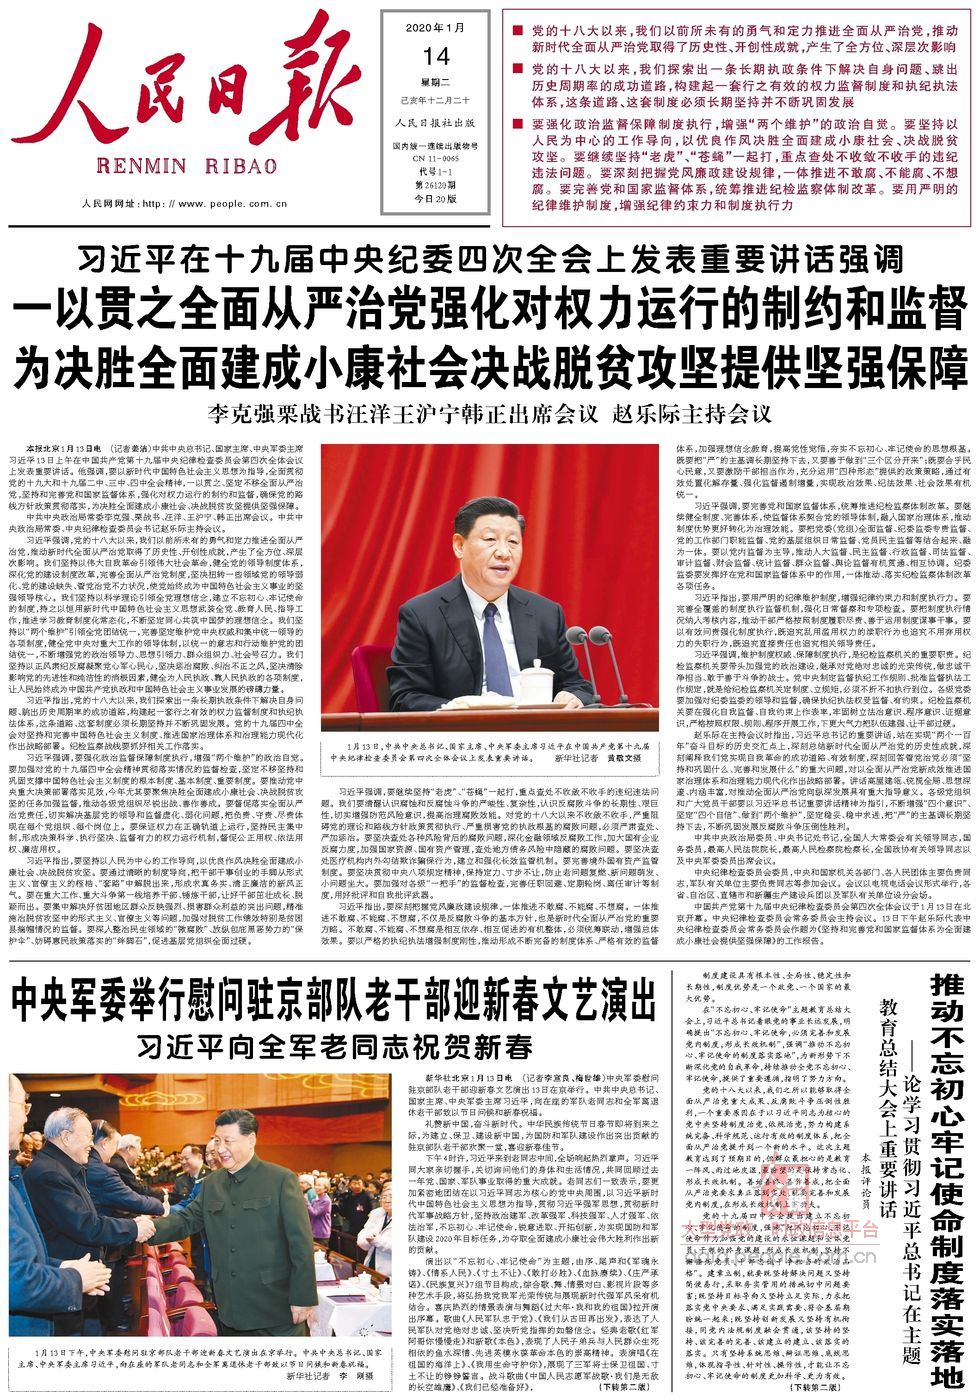pic: (5, 1069, 396, 1341), (317, 439, 664, 738)
